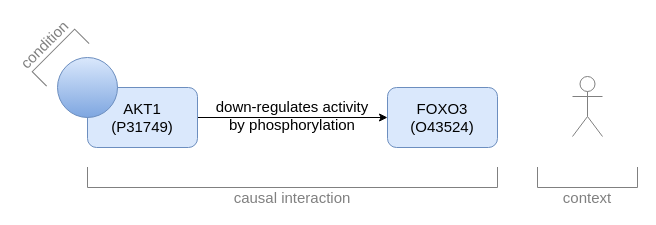
Image size: 656x225. Some labels were removed from this diagram. The shapes that lost their labels are listed below. From the top down, each one's centre as x and y in pixels, then its label:
At (87,87): "Phosph Ser 253".
At (587,106): "Homo sapiens".
